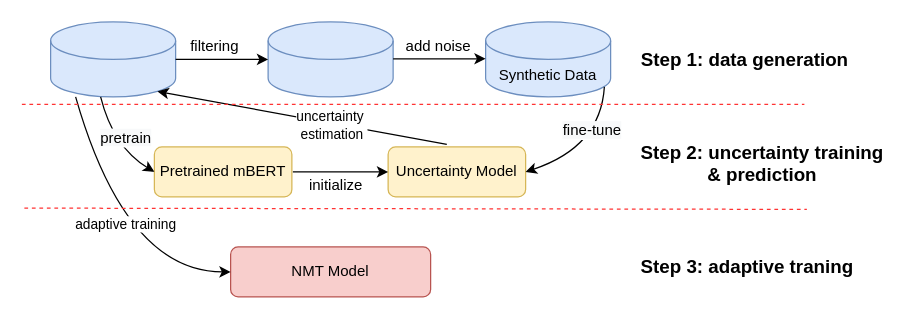
This 921x319 diagram has some shape labels left out. Each missing label, with the box of its shape:
Parallel Data: (49, 21, 176, 97)
Seed Data: (267, 21, 393, 97)
